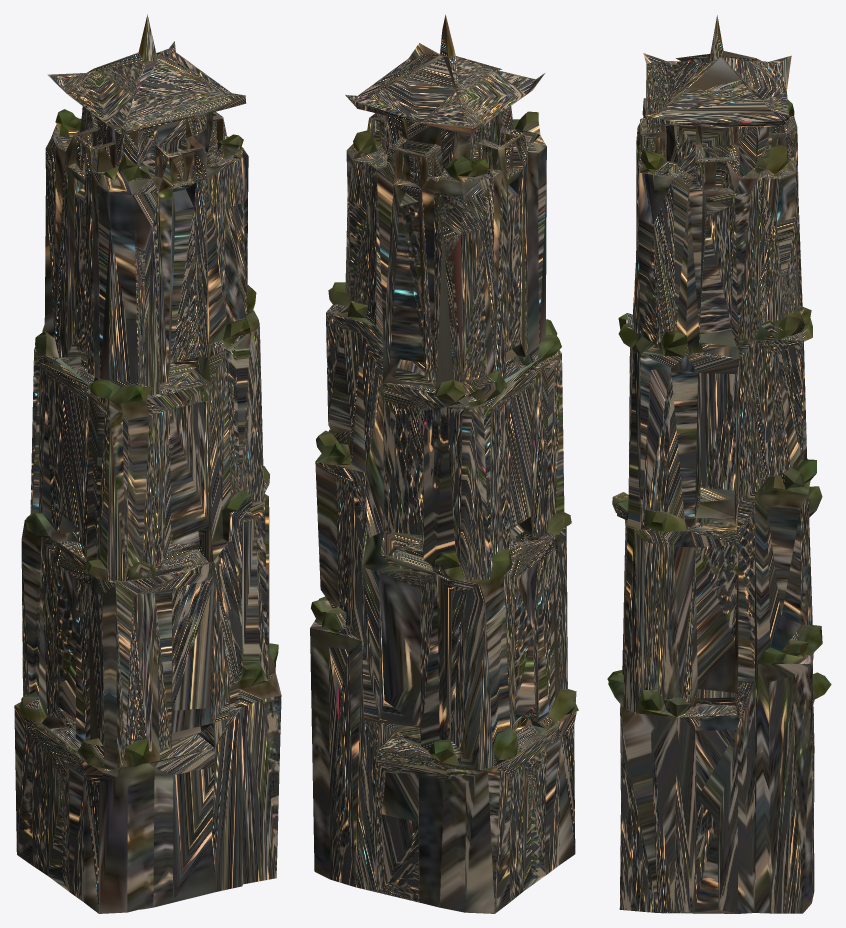
The model's file is t01_far.glb.
3 renders of one model, left to right at view 1: azimuth 30°, elevation 25°; view 2: azimuth 150°, elevation 25°; view 3: azimuth 270°, elevation 25°, orthographic.
Visible parts, largest first — view 1: t01_far; view 2: t01_far; view 3: t01_far.
Part boxes in pixels (left/top/right/bottom): t01_far: left=14, top=14, right=281, bottom=913; t01_far: left=310, top=14, right=578, bottom=913; t01_far: left=607, top=15, right=831, bottom=913.
Size of the model in its own units: 49.22 by 200 by 47.42.
1 material, 1 textured.
